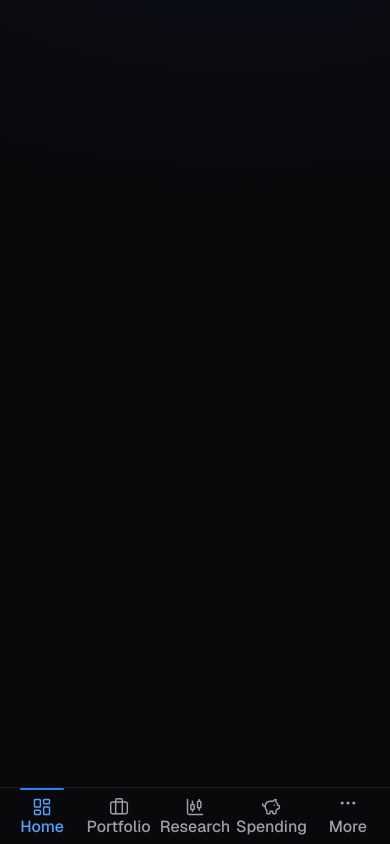
Test: MobileNav › opens a More dialog listing the overflow destinations
Step 1. Click the button "More" → (348, 816), box [310,788,386,843]
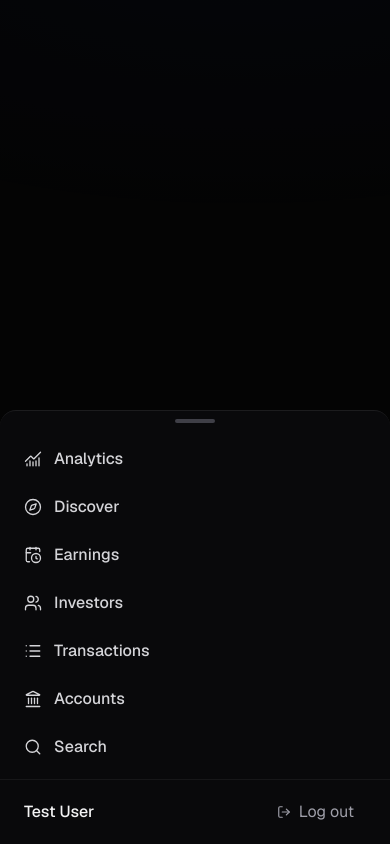
Result: the button "More" is expanded at [310,788,386,843]
Result: the link "Analytics" is shown at [24,448,123,469]
Result: the link "Discover" is shown at [24,496,120,517]
